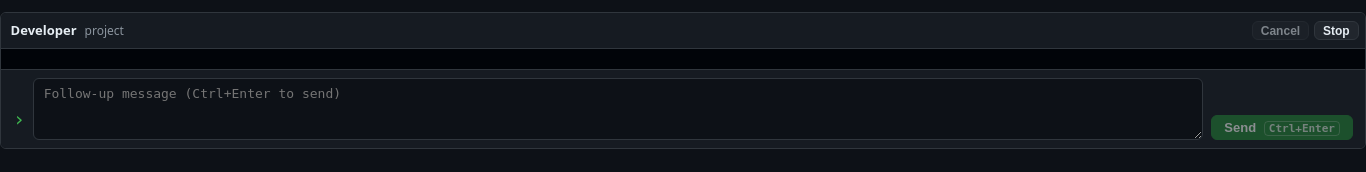
chat composer slash menu › closes with Esc until the text changes
The image size is (1366, 172).
Type "/r" into the text box labelled "Follow-up message" at (618, 109), box [33, 78, 1203, 140]
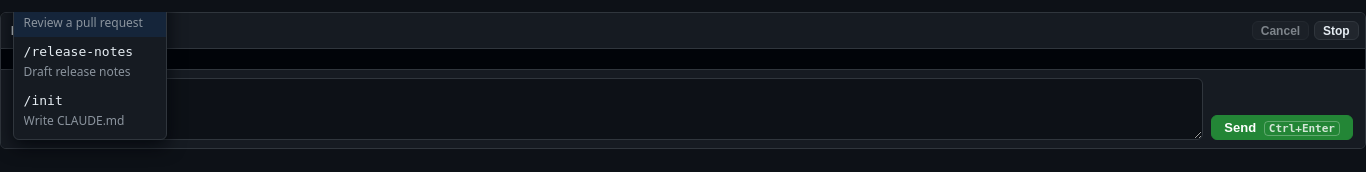
Press Escape in the text box named "Follow-up message", box [33, 78, 1203, 140]
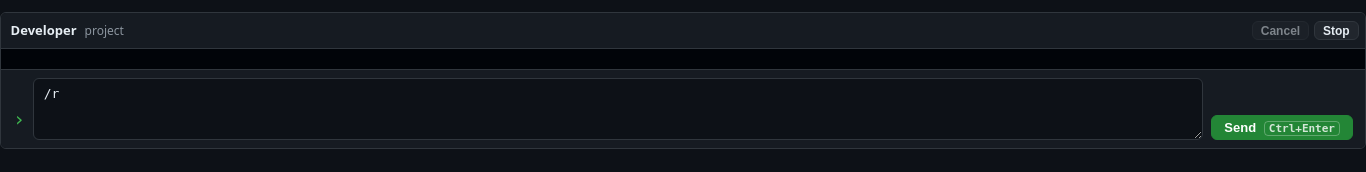
Replace the text in the text box named "Follow-up message" with "/re" at (618, 109), box [33, 78, 1203, 140]
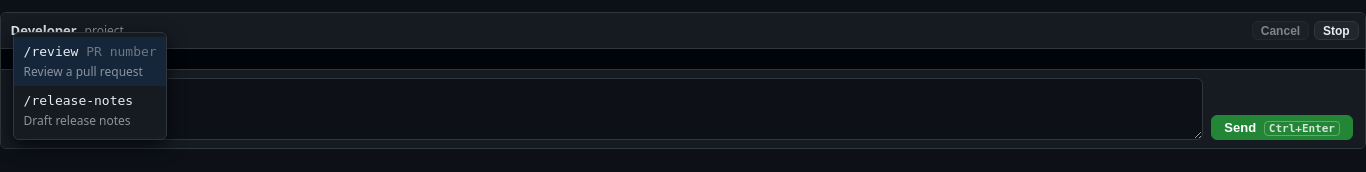
Expected: the list is shown, [13, 32, 167, 140]
